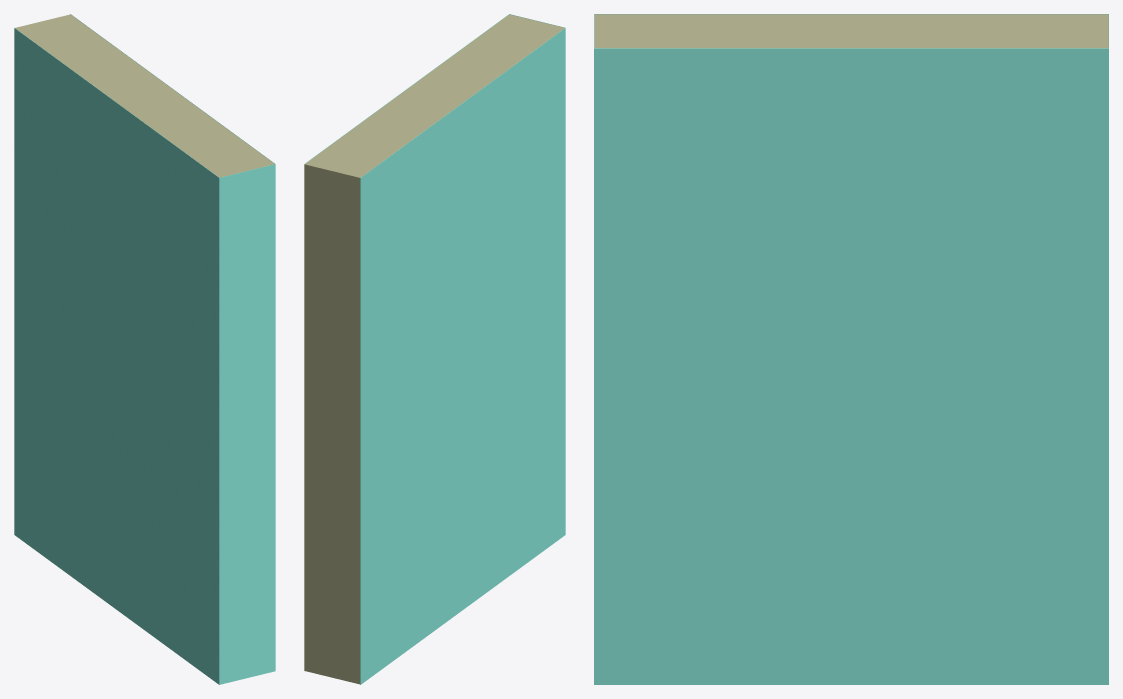
Rendered from Books 1 pcs.fbx.
3 renders of one model, left to right at view 1: azimuth 30°, elevation 25°; view 2: azimuth 150°, elevation 25°; view 3: azimuth 270°, elevation 25°, orthographic. The views are drawn at different scales.
Parts seen in each view (by area): view 1: Book single; view 2: Book single; view 3: Book single.
Part boxes in pixels (left/top/right/bottom): Book single: left=14, top=14, right=275, bottom=684; Book single: left=304, top=14, right=565, bottom=684; Book single: left=594, top=14, right=1108, bottom=684.
Bounding box in the file's own units: 3.5 × 30 × 22.
